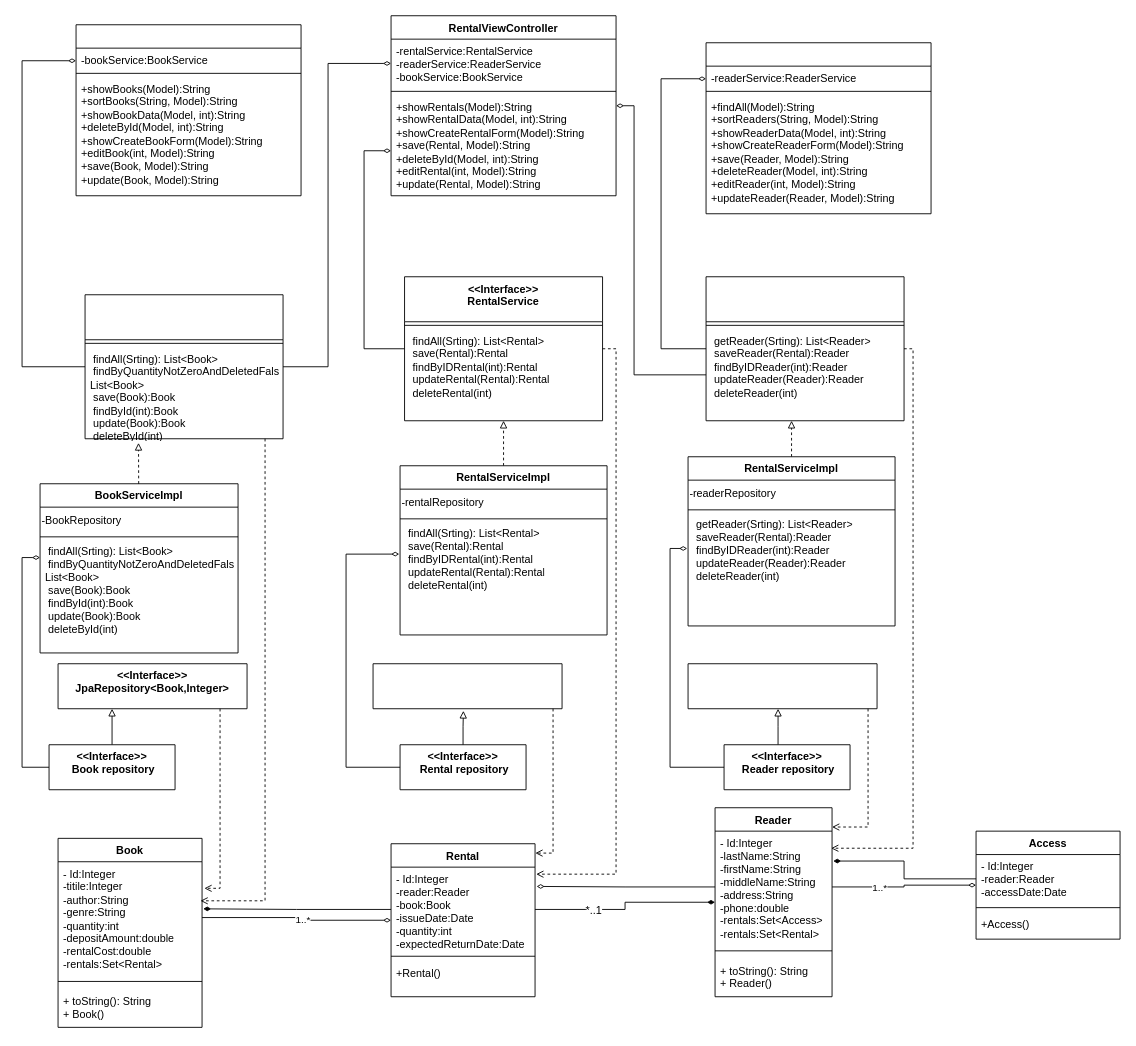
Some shapes in this 1136 by 1046 pixel diagram are drawn without their labels. Here are the shapes that lost their labels. From the top down, the box of each, then its label:
(75, 24, 301, 196): BookViewController
(705, 42, 931, 214): ReaderViewController
(84, 294, 283, 439): <<Interface>> BookService
(705, 276, 904, 421): <<Interface>> ReaderService
(372, 663, 562, 709): <<Interface>> JpaRepository<Rental,Integer>
(687, 663, 877, 709): <<Interface>> JpaRepository<Reader,Integer>
